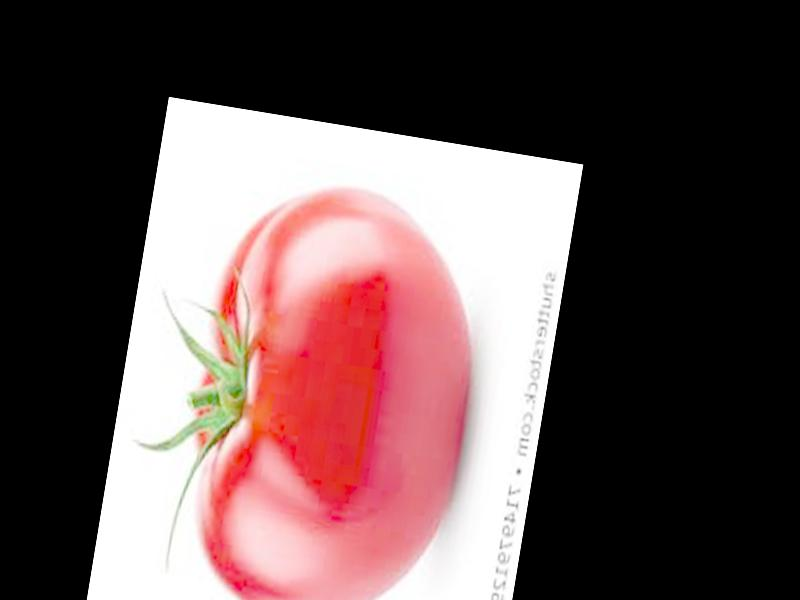Tomato: (167, 168, 497, 600)
